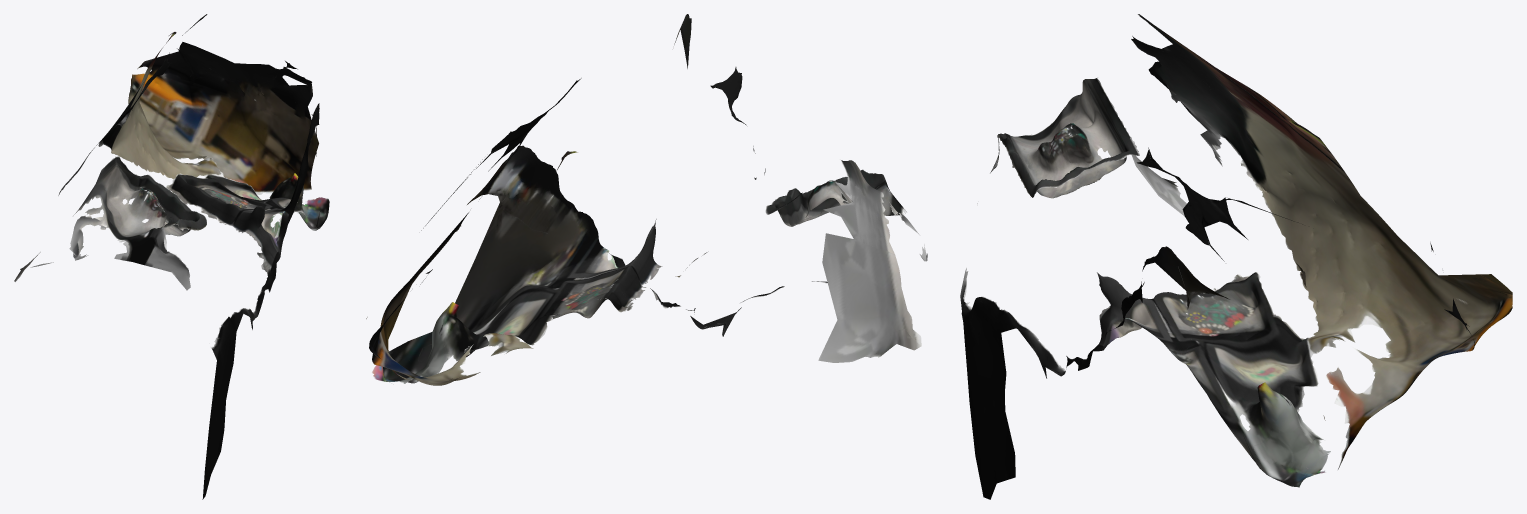
3 views of the same model, side by side, from view 1: azimuth 30°, elevation 25°; view 2: azimuth 150°, elevation 25°; view 3: azimuth 270°, elevation 25° (orthographic). The views are drawn at different scales.
Size of the model in its own units: 1.43 by 1.54 by 1.47.
Materials: 1 (1 with a texture image).
